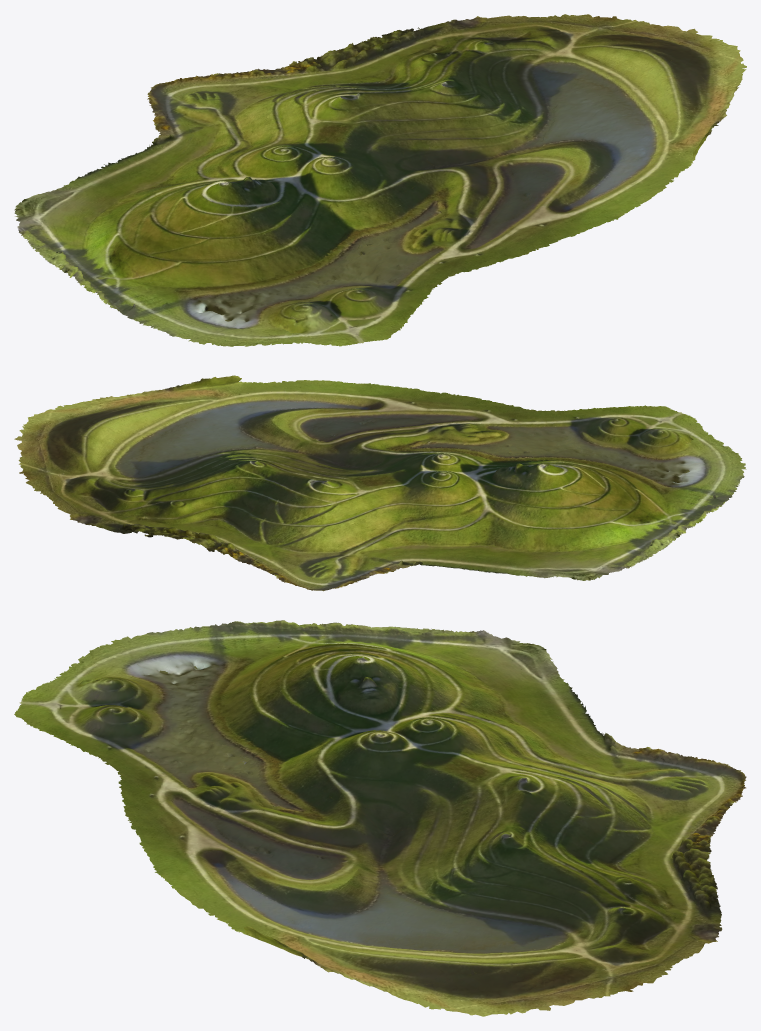
File: northumberlandia_optimized.glb
3 renders of one model, top to bottom at view 1: azimuth 30°, elevation 25°; view 2: azimuth 150°, elevation 25°; view 3: azimuth 270°, elevation 25°, orthographic. The views are drawn at different scales.
Parts seen in each view (by area): view 1: Model_material0_0; view 2: Model_material0_0; view 3: Model_material0_0.
Part boxes in pixels (left/top/right/bottom): Model_material0_0: left=14, top=14, right=746, bottom=346; Model_material0_0: left=14, top=375, right=746, bottom=591; Model_material0_0: left=14, top=620, right=746, bottom=1016.
Bounding box in the file's own units: 47.04 × 3.4 × 36.36.
Materials: 1 (1 with a texture image).
